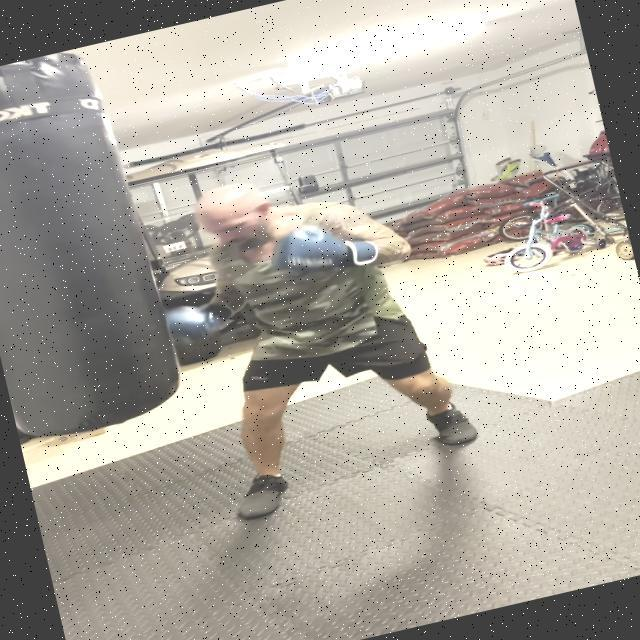punch: (99, 136, 418, 372)
